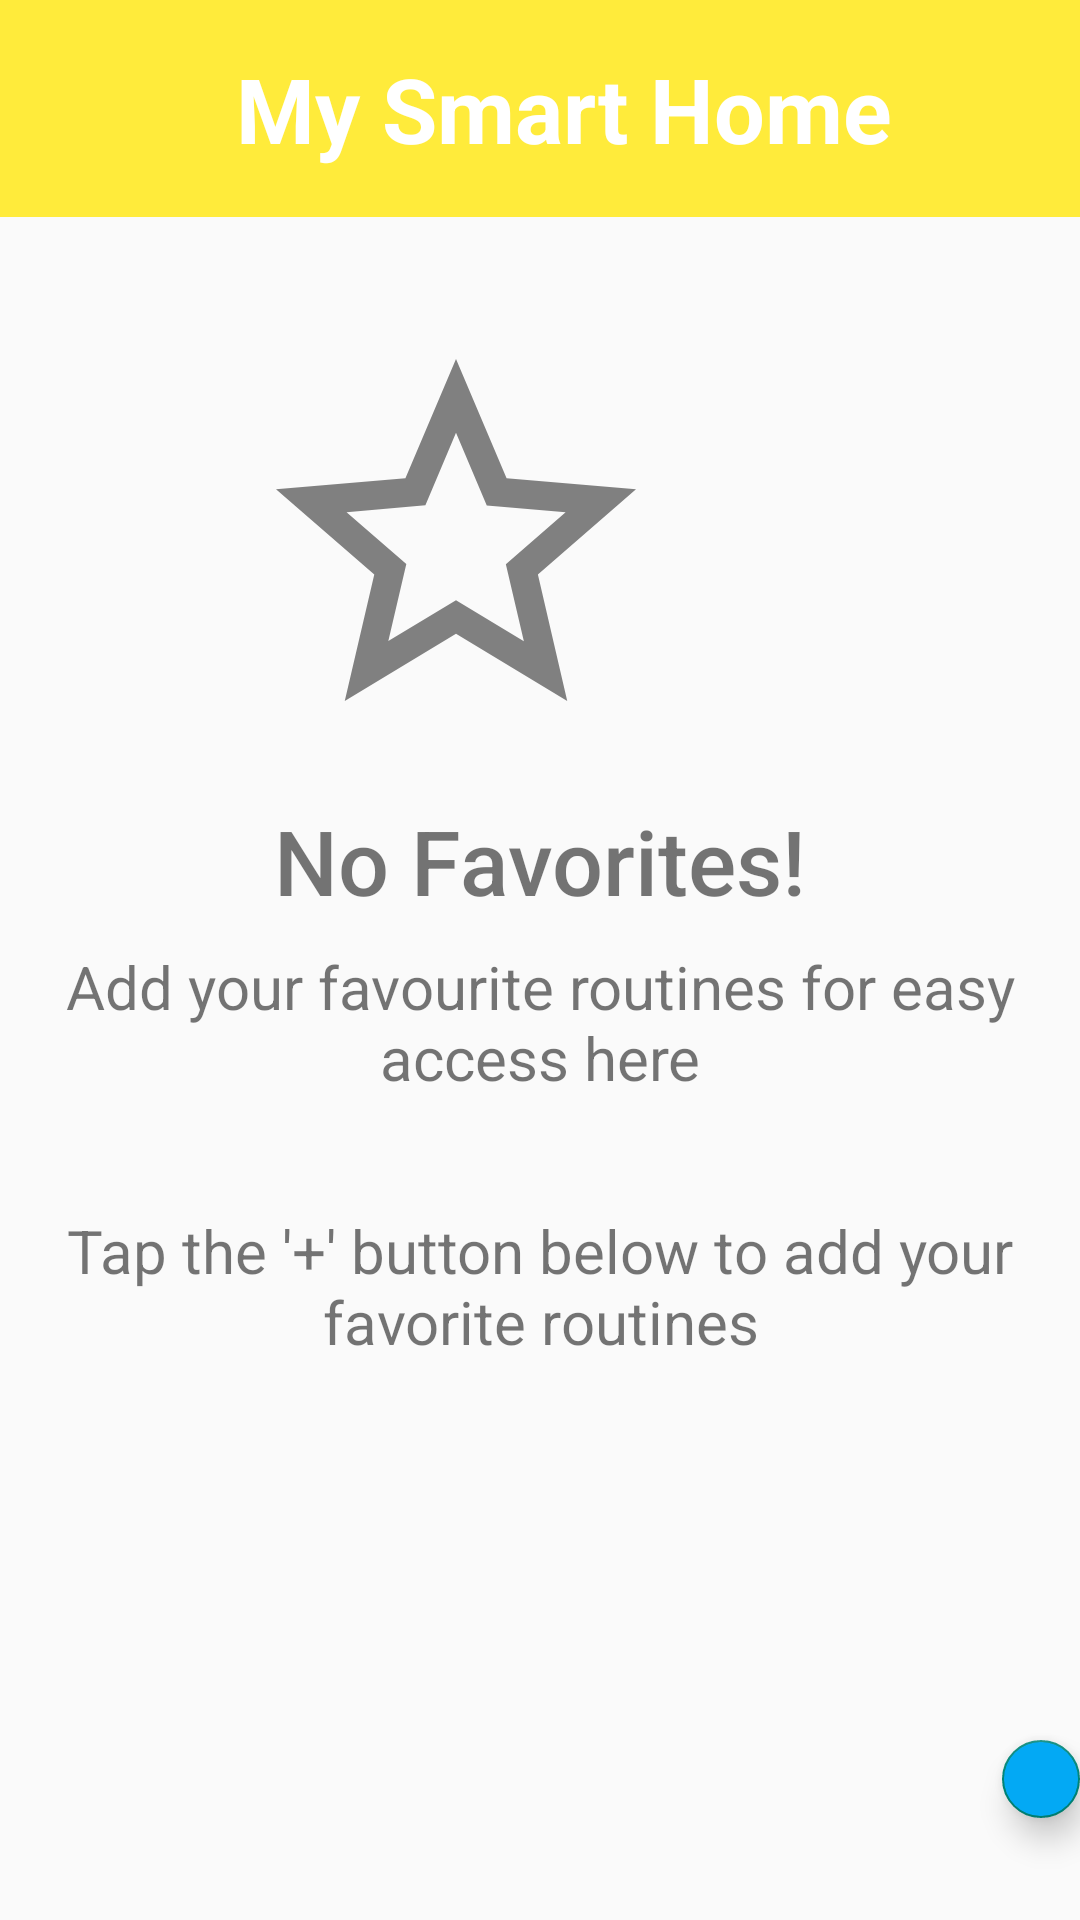

Icon bounding boxes for this 1080x1920 phone screenshot, format bbox=(x1, y1, x2, y2):
star: bbox=(276, 359, 636, 701)
